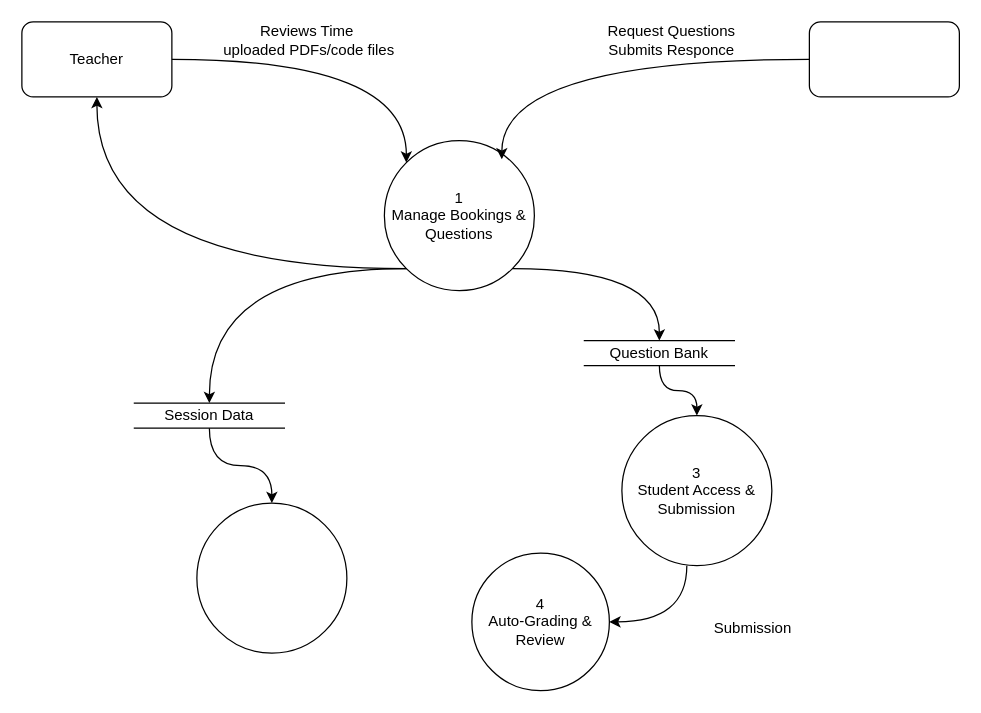
Image size: 981x713. Some labels were removed from this diagram. The box of each missing label's shape, as (x1, y1, x2, y2) in pixels:
2 Validate & Store Exam Content: (196, 502, 347, 653)
Student: (808, 21, 959, 97)
